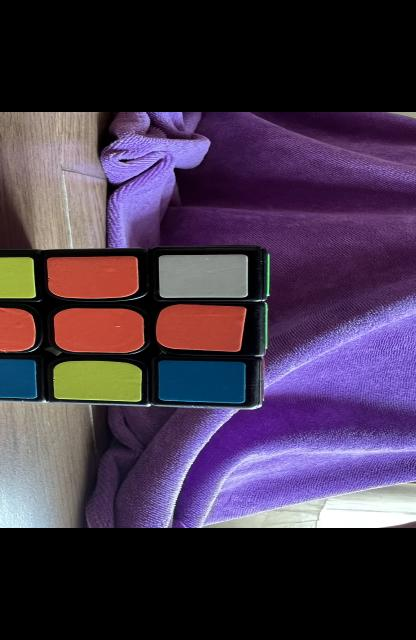Blue: (156, 361, 245, 404), (0, 359, 36, 399)
Orange: (155, 305, 246, 352), (53, 308, 143, 353), (46, 256, 138, 299), (0, 308, 35, 352)
White: (158, 254, 248, 298)
Yellow: (53, 361, 141, 401), (0, 257, 35, 298)
